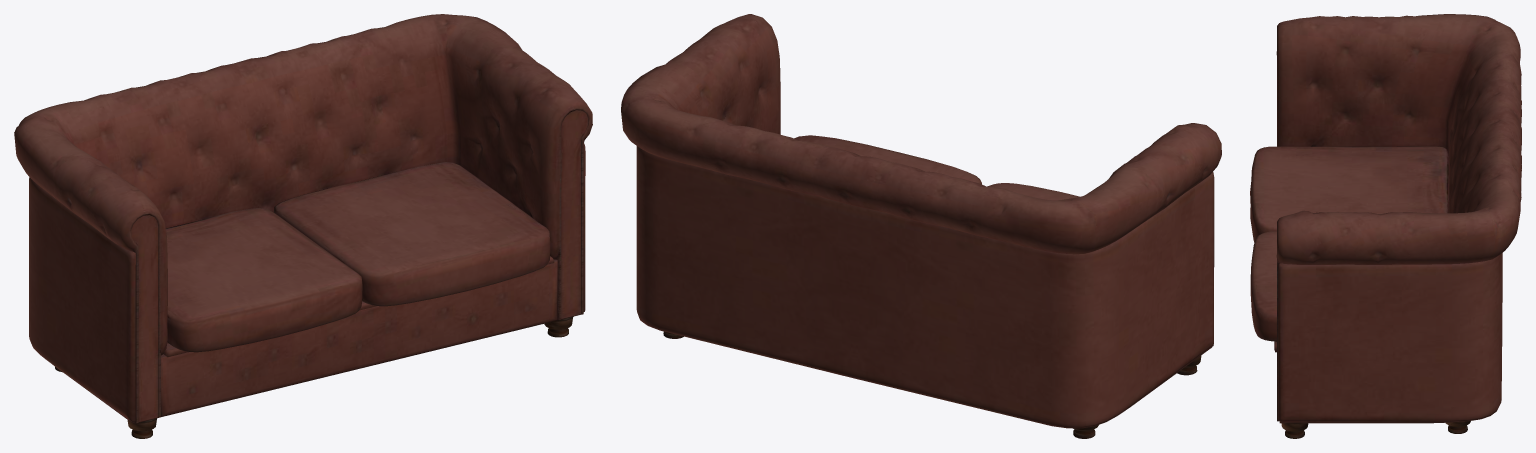
File: lounge_sofa.glb
3 views of the same model, side by side, from view 1: azimuth 30°, elevation 25°; view 2: azimuth 150°, elevation 25°; view 3: azimuth 270°, elevation 25° (orthographic). The views are drawn at different scales.
Visible parts, largest first — view 1: lounge_sofa; view 2: lounge_sofa; view 3: lounge_sofa.
Boxes of the visible parts, x1,y1,x2,y2 form: lounge_sofa: [14, 14, 592, 438]; lounge_sofa: [621, 14, 1221, 438]; lounge_sofa: [1250, 14, 1521, 438].
Size of the model in its own units: 1.84 by 0.8765 by 0.9677.
1 material, 1 textured.
